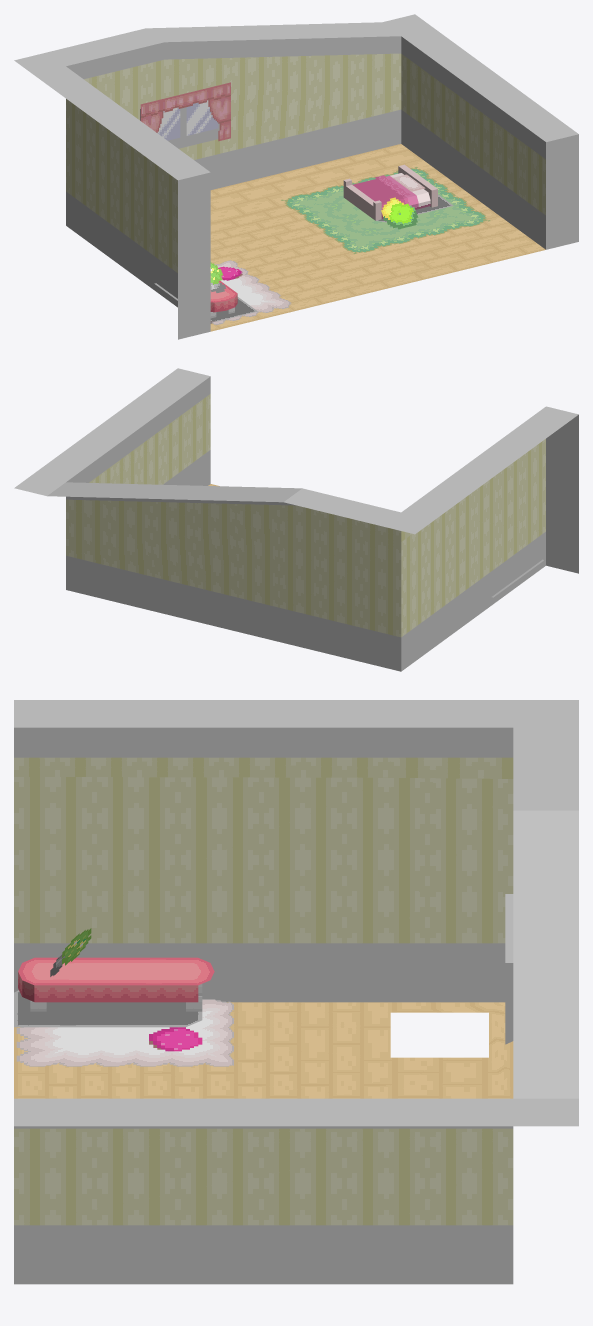
Rendered from ROOM18.obj.
The picture shows the model from 3 angles, top to bottom: view 1: azimuth 30°, elevation 25°; view 2: azimuth 150°, elevation 25°; view 3: azimuth 270°, elevation 25°; orthographic projection. The views are drawn at different scales.
Parts seen in each view (by area): view 1: polygon4, polygon1, polygon3, polygon2, polygon0, polygon8, polygon5, polygon12, polygon7, polygon9, polygon13, polygon6 (+1 smaller); view 2: polygon4, polygon1, polygon2; view 3: polygon4, polygon2, polygon1, polygon3, polygon11, polygon12, polygon13, polygon6, polygon9.
Boxes of the visible parts, box(x1,y1,x2,y2) form: polygon4: box(66, 53, 545, 272); polygon1: box(14, 14, 578, 339); polygon3: box(210, 144, 545, 331); polygon2: box(66, 36, 545, 307); polygon0: box(281, 167, 490, 254); polygon8: box(343, 164, 437, 220); polygon5: box(140, 82, 230, 141); polygon12: box(212, 260, 291, 325); polygon7: box(157, 100, 218, 140); polygon9: box(218, 197, 418, 280); polygon13: box(154, 194, 453, 321); polygon6: box(140, 107, 219, 148); polygon4: box(66, 394, 545, 637); polygon1: box(14, 368, 578, 573); polygon2: box(66, 376, 545, 671); polygon4: box(14, 757, 513, 1225); polygon2: box(14, 727, 513, 1284); polygon1: box(14, 700, 578, 1126); polygon3: box(14, 1002, 513, 1098); polygon11: box(18, 957, 214, 1011); polygon12: box(16, 999, 233, 1066); polygon13: box(14, 990, 202, 1027); polygon6: box(505, 894, 513, 1044); polygon9: box(149, 1027, 202, 1051).
Size of the model in its own units: 6.09 by 2.31 by 4.31.
